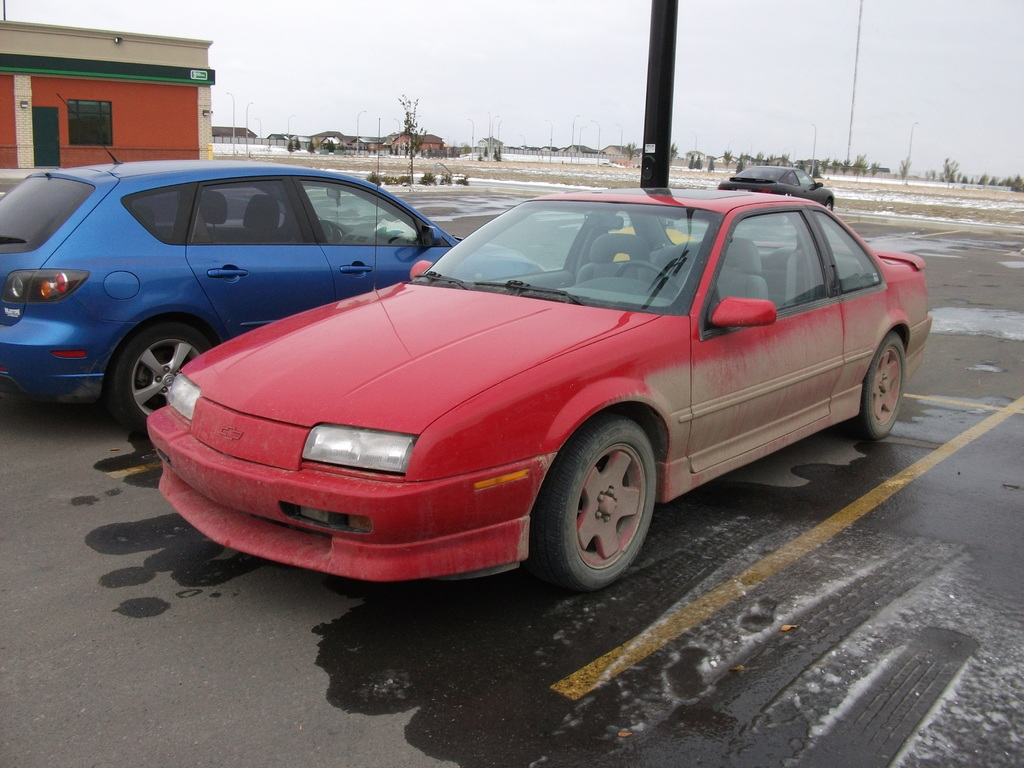car: (146, 188, 936, 593), (0, 159, 462, 434), (718, 165, 836, 211)
